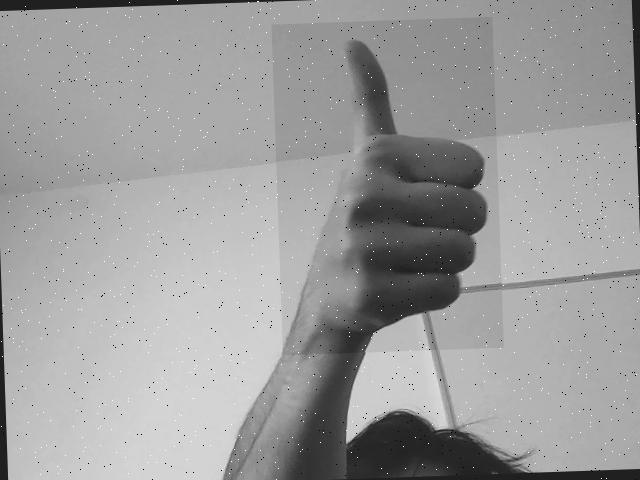good: (282, 22, 500, 352)
